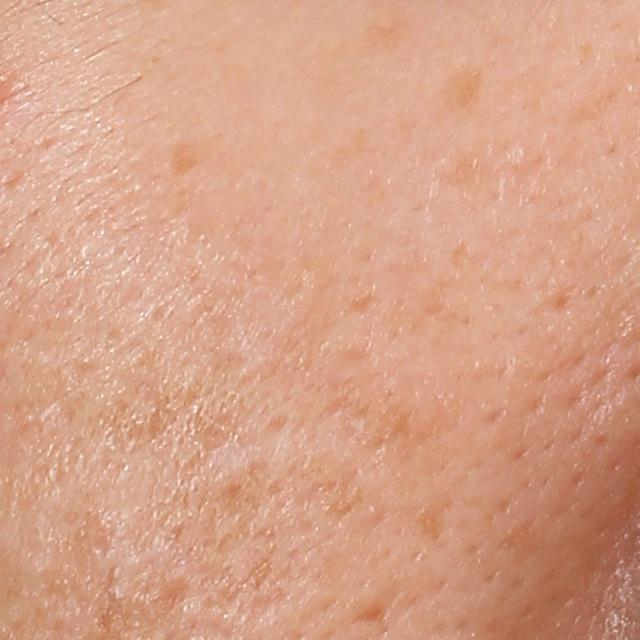atrophic_scar: (357, 597, 393, 627)
melasma: (437, 71, 481, 112), (168, 136, 212, 175)
